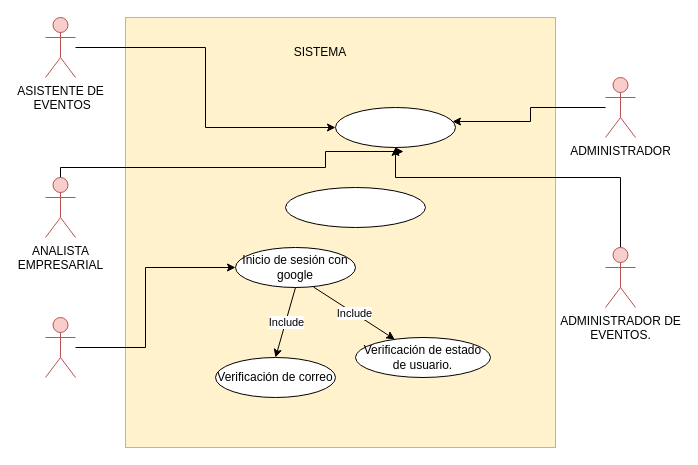
This 698x465 diagram has some shape labels left out. The shapes that lost their labels are listed below. From the top down, each one's centre as x and y in pixels, then its label:
At [395,127]: "Inicio de sesión sistema.".
At [355,207]: "Verificación de usuario y contraseña.".
At [60,347]: "CLIENTE".
